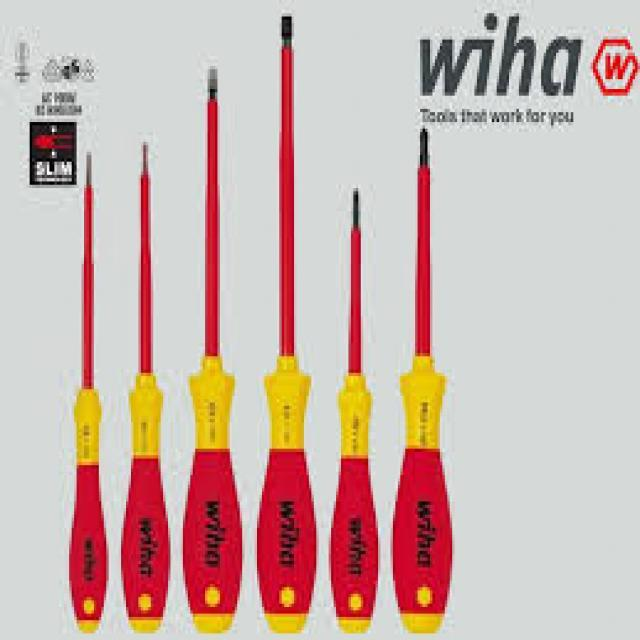screwdriver: (253, 10, 320, 640), (179, 62, 245, 640), (387, 122, 456, 637), (116, 138, 173, 640), (326, 181, 383, 637), (64, 147, 111, 635)
